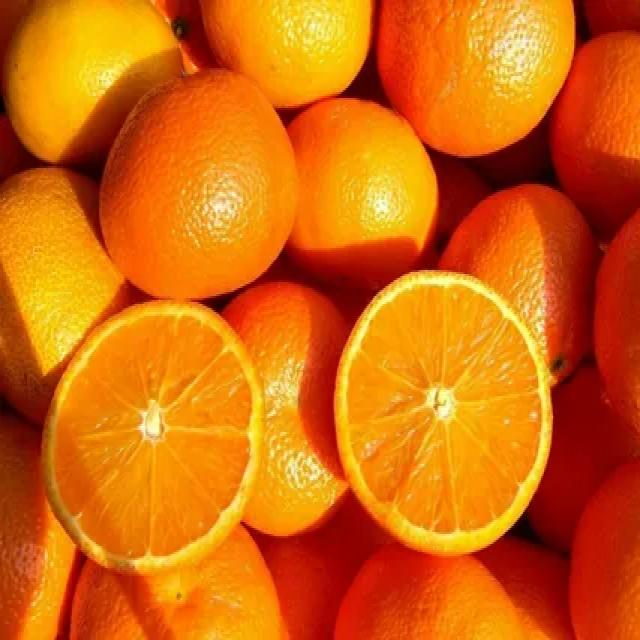orange: (330, 256, 554, 552), (97, 60, 300, 300)
